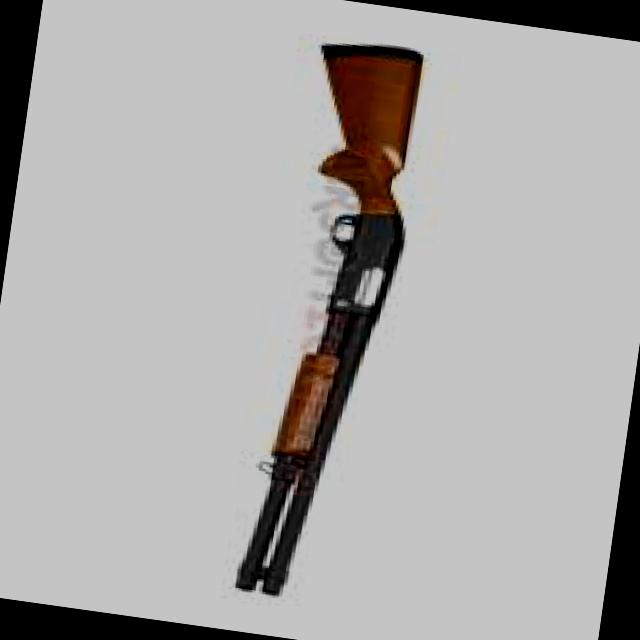long weapon: (173, 24, 488, 606)
